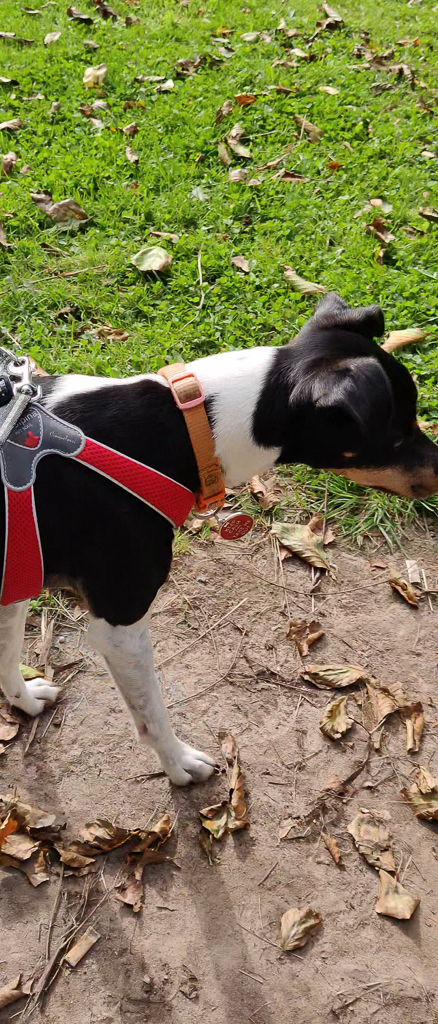Dog: (0, 256, 438, 829)
